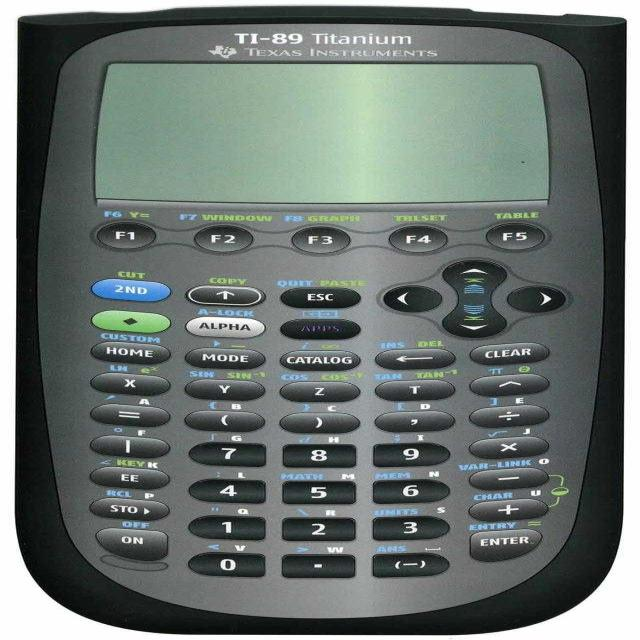Calculator: (12, 5, 627, 635)
